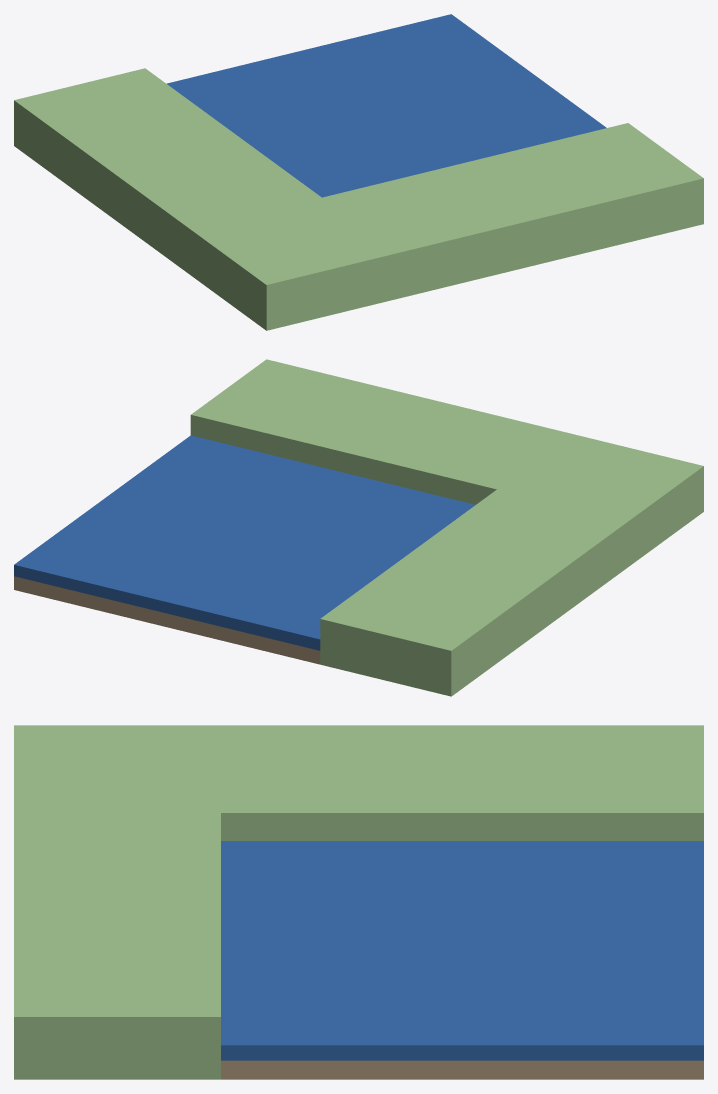
File: river_bank_corner.glb
The picture shows the model from 3 angles, top to bottom: view 1: azimuth 30°, elevation 25°; view 2: azimuth 150°, elevation 25°; view 3: azimuth 270°, elevation 25°; orthographic projection. The views are drawn at different scales.
Parts seen in each view (by area): view 1: river_bank_corner_bank_y, river_bank_corner_water, river_bank_corner_bank_x; view 2: river_bank_corner_water, river_bank_corner_bank_y, river_bank_corner_bank_x, river_bank_corner_bed; view 3: river_bank_corner_water, river_bank_corner_bank_y, river_bank_corner_bank_x, river_bank_corner_bed.
Part boxes in pixels (left/top/right/bottom): river_bank_corner_bank_y: left=190, top=123, right=703, bottom=330; river_bank_corner_water: left=167, top=14, right=606, bottom=197; river_bank_corner_bank_x: left=14, top=68, right=321, bottom=274; river_bank_corner_water: left=14, top=435, right=475, bottom=650; river_bank_corner_bank_y: left=190, top=359, right=703, bottom=566; river_bank_corner_bank_x: left=320, top=489, right=628, bottom=696; river_bank_corner_bed: left=14, top=576, right=320, bottom=664; river_bank_corner_water: left=221, top=841, right=703, bottom=1060; river_bank_corner_bank_y: left=14, top=725, right=220, bottom=1079; river_bank_corner_bank_x: left=221, top=725, right=703, bottom=840; river_bank_corner_bed: left=221, top=1060, right=703, bottom=1079.
Bounding box in the file's own units: 2 × 0.2 × 2.
